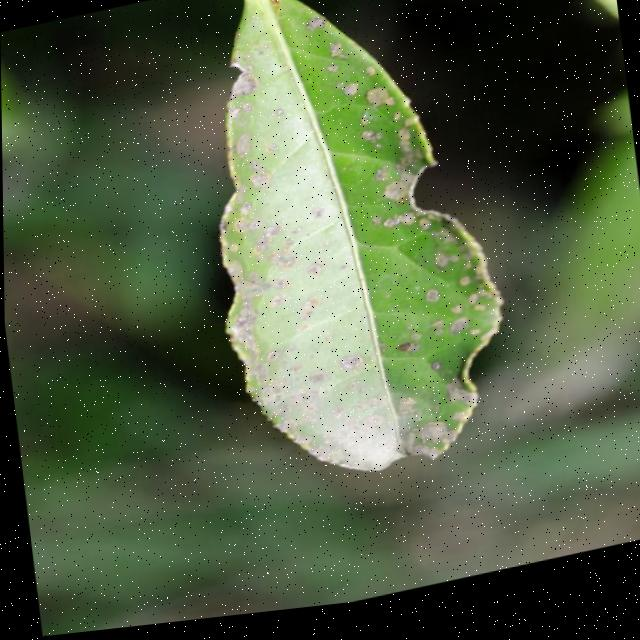Tea red rust: (204, 0, 516, 504)
